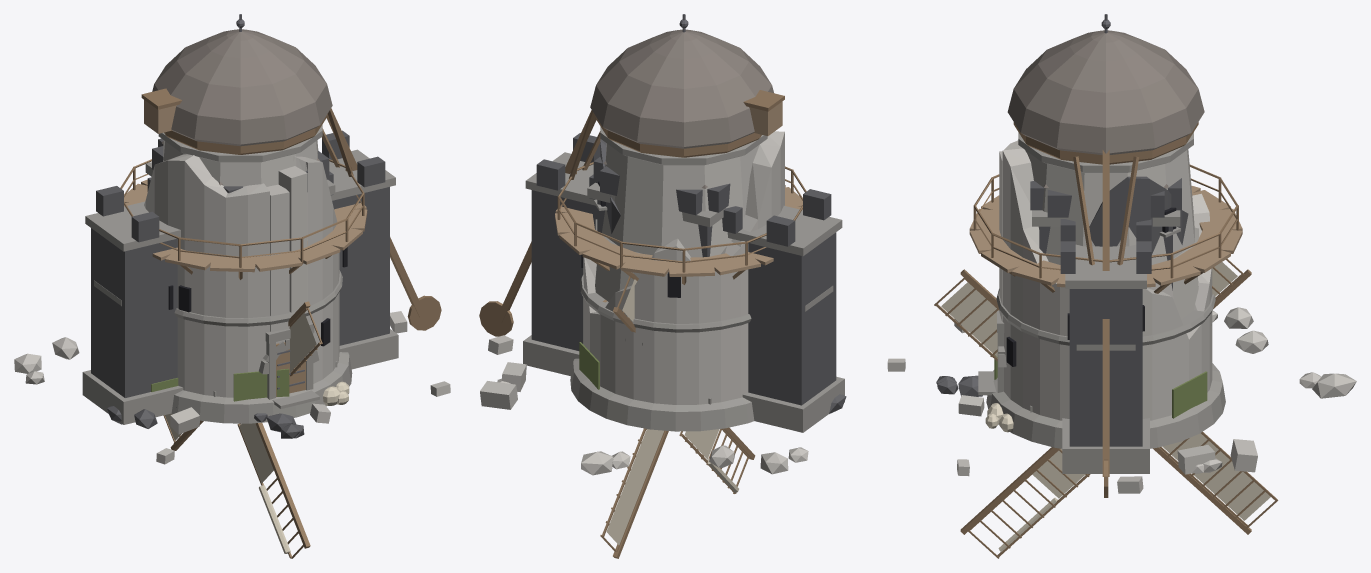
The model's file is landmarks.glb.
The picture shows the model from 3 angles, left to right: view 1: azimuth 30°, elevation 25°; view 2: azimuth 150°, elevation 25°; view 3: azimuth 270°, elevation 25°; orthographic projection. The views are drawn at different scales.
Parts seen in each view (by area): view 1: WatchRuin, Windmill, FortGate, MillSails, FortRuin, FortTower, FortWall; view 2: Windmill, WatchRuin, FortGate, MillSails, FortTower, FortWallB, FortRuin; view 3: Windmill, WatchRuin, FortGate, MillSails, FortRuin, FortWall, FortTower, FortWallB.
Part boxes in pixels (bbox=[...]): WatchRuin: bbox=[14, 154, 450, 464]; Windmill: bbox=[120, 14, 441, 408]; FortGate: bbox=[82, 130, 398, 424]; MillSails: bbox=[163, 301, 322, 558]; FortRuin: bbox=[107, 406, 304, 438]; FortTower: bbox=[145, 138, 337, 396]; FortWall: bbox=[91, 273, 178, 391]; Windmill: bbox=[479, 14, 806, 345]; WatchRuin: bbox=[480, 131, 905, 475]; FortGate: bbox=[523, 133, 844, 432]; MillSails: bbox=[600, 272, 755, 558]; FortTower: bbox=[587, 157, 730, 404]; FortWallB: bbox=[806, 300, 829, 401]; FortRuin: bbox=[600, 139, 846, 413]; Windmill: bbox=[969, 14, 1242, 497]; WatchRuin: bbox=[954, 140, 1356, 493]; FortGate: bbox=[1060, 219, 1151, 473]; MillSails: bbox=[934, 258, 1278, 558]; FortRuin: bbox=[936, 176, 1188, 396]; FortWall: bbox=[1076, 338, 1135, 446]; FortTower: bbox=[1030, 178, 1181, 412]; FortWallB: bbox=[1080, 343, 1131, 446].
Bounding box in the file's own units: 15 × 19.77 × 13.94.
